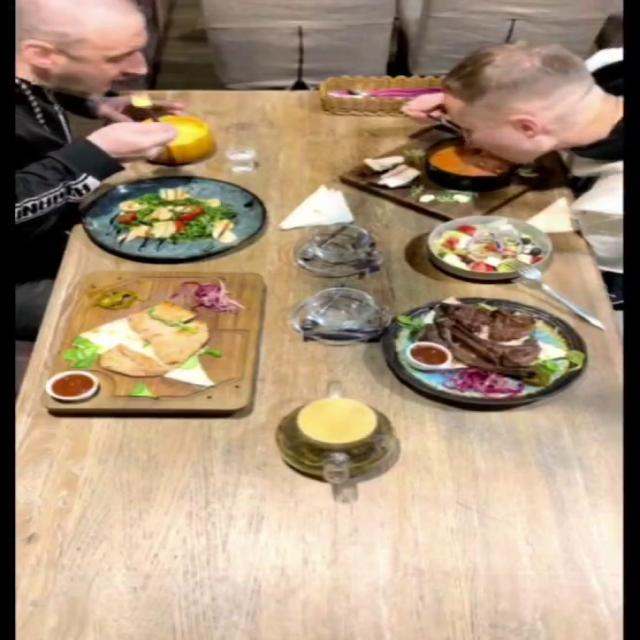alcohol: (216, 119, 269, 177)
meat: (379, 296, 589, 406)
salat: (76, 174, 262, 260), (427, 214, 554, 280)
soup: (338, 129, 566, 220), (138, 116, 215, 162)
tea: (273, 394, 397, 480)
